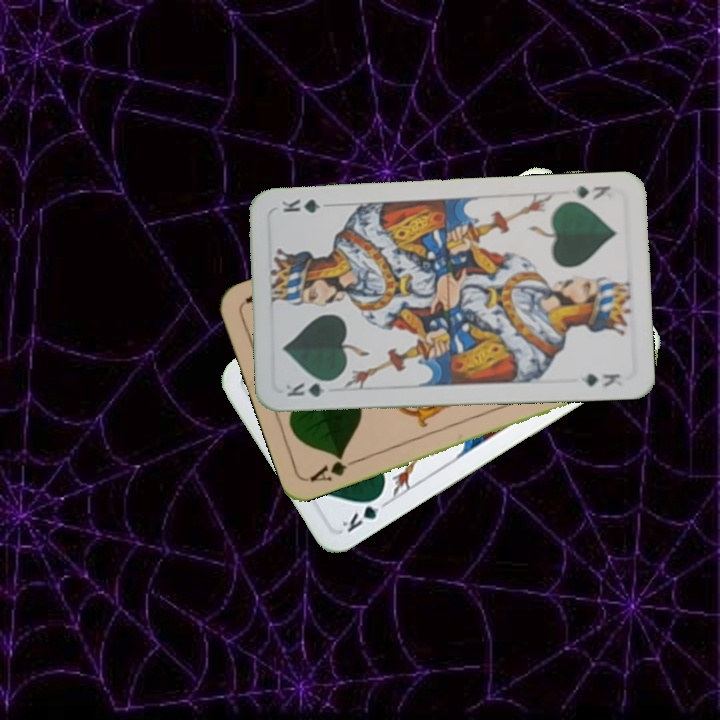GA: (305, 451, 362, 484)
GK: (338, 490, 391, 536), (281, 376, 338, 399), (572, 182, 613, 202)
